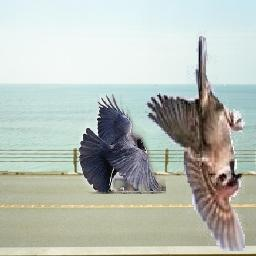Crow: (80, 94, 167, 194)
Sparrow: (143, 32, 246, 253)
